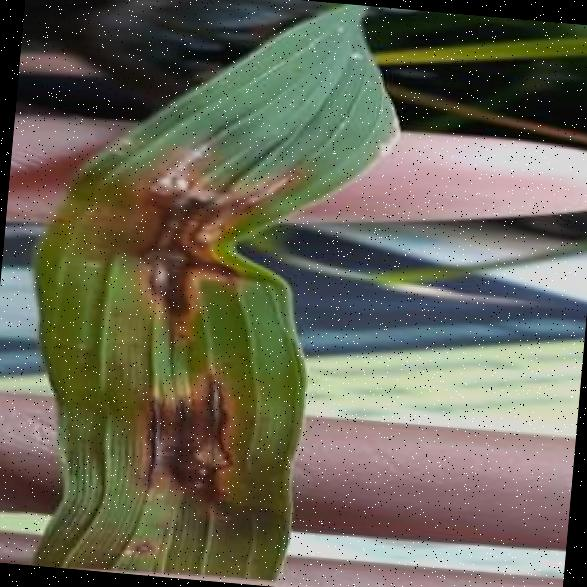Leaf_smut: (105, 343, 253, 507), (131, 135, 234, 248), (112, 225, 210, 330)
